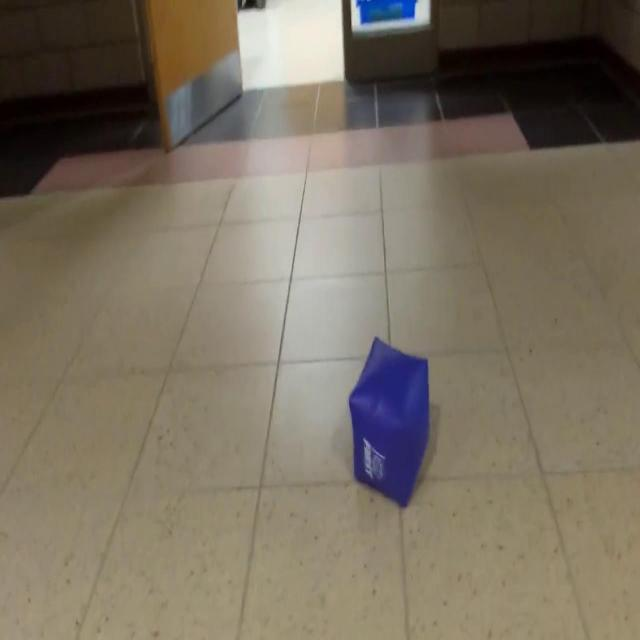frc_cube: (348, 335, 431, 505)
